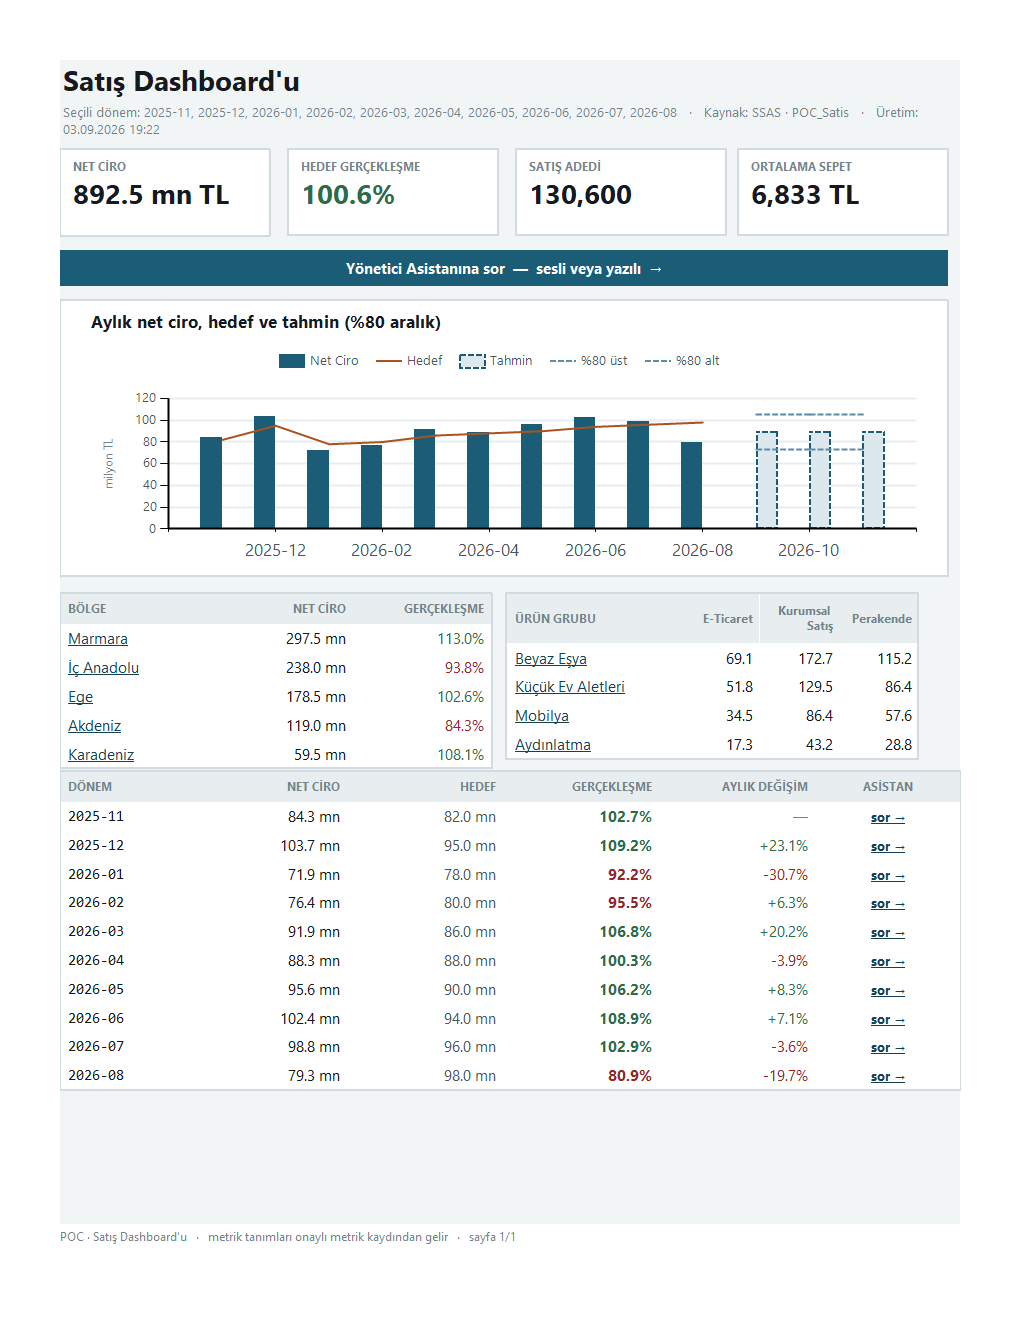

The page's visual inventory and layout, read from the dashboard file:
{"tool":"powerbi","page":{"name":"Satış Performansı","canvas":[1280,720],"ordinal":0},"visuals":[{"type":"textbox","box":[24,6,620,68],"z":1000},{"type":"slicer","title":"DÖNEM","fields":{"Values":["Donem.Dönem"]},"box":[1024,16,232,196],"z":2000},{"type":"card","title":"NET CİRO","fields":{"Values":["Satis.Net Ciro"]},"box":[24,76,232,104],"z":3000},{"type":"card","title":"HEDEF GERÇEKLEŞME","fields":{"Values":["Satis.Hedef Gerçekleşme %"]},"box":[272,76,232,104],"z":4000},{"type":"card","title":"SATIŞ ADEDİ","fields":{"Values":["Satis.Satış Adet"]},"box":[520,76,232,104],"z":5000},{"type":"card","title":"ORTALAMA SEPET","fields":{"Values":["Satis.Ortalama Sepet"]},"box":[768,76,232,104],"z":6000},{"type":"textbox","box":[24,196,976,32],"z":7000},{"type":"lineClusteredColumnComboChart","title":"AYLIK CİRO, HEDEF VE TAHMİN (%80 ARALIK) · TÜM DÖNEMLER","fields":{"Category":["CiroSerisi.Dönem"],"Y":["CiroSerisi.Gerçekleşen Ciro","CiroSerisi.Tahmin"],"Y2":["CiroSerisi.Aylık Hedef","CiroSerisi.Tahmin %80 Üst","CiroSerisi.Tahmin %80 Alt"]},"box":[24,248,816,216],"z":8000},{"type":"tableEx","title":"BÖLGE KIRILIMI","fields":{"Values":["Bolge.Bölge","Satis.Net Ciro","Satis.Hedef Gerçekleşme %"]},"box":[856,248,400,216],"z":9000},{"type":"pivotTable","title":"ÜRÜN GRUBU × KANAL","fields":{"Rows":["UrunGrubu.Ürün Grubu"],"Columns":["Kanal.Kanal"],"Values":["Satis.Net Ciro"]},"box":[24,480,560,216],"z":10000},{"type":"tableEx","title":"AYLIK DETAY","fields":{"Values":["Donem.Dönem","Satis.Net Ciro","Satis.Hedef","Satis.Hedef Gerçekleşme %","Satis.Aylık Değişim %","Satis.Kümülatif Ciro"]},"box":[600,480,656,216],"z":11000}]}

Visuals, with their boxes on the page's 1280x720 design canvas (x1, y1, x2, y2). These are canvas units, not pixel positions in the 1020x1320 screenshot, which may show the page scaled, cropped or inside an application window:
textbox: 24/6/644/74
"DÖNEM" slicer: 1024/16/1256/212
"NET CİRO" card: 24/76/256/180
"HEDEF GERÇEKLEŞME" card: 272/76/504/180
"SATIŞ ADEDİ" card: 520/76/752/180
"ORTALAMA SEPET" card: 768/76/1000/180
textbox: 24/196/1000/228
"AYLIK CİRO, HEDEF VE TAHMİN (%80 ARALIK) · TÜM DÖNEMLER" lineClusteredColumnComboChart: 24/248/840/464
"BÖLGE KIRILIMI" tableEx: 856/248/1256/464
"ÜRÜN GRUBU × KANAL" pivotTable: 24/480/584/696
"AYLIK DETAY" tableEx: 600/480/1256/696
